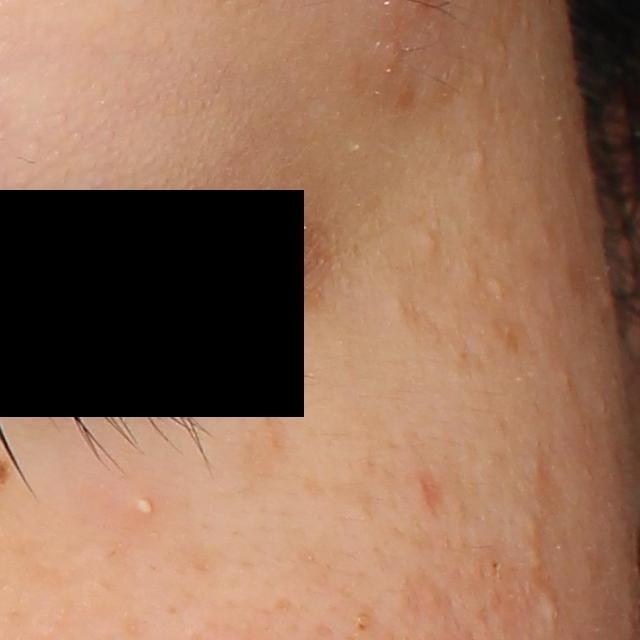comedo: (539, 588, 568, 631), (467, 140, 490, 172), (488, 277, 510, 300), (525, 516, 541, 545), (421, 229, 439, 252), (527, 548, 544, 571), (487, 555, 502, 575)
melasma: (240, 414, 285, 481), (177, 537, 234, 584), (283, 279, 332, 323)
pustule: (118, 485, 161, 525)
